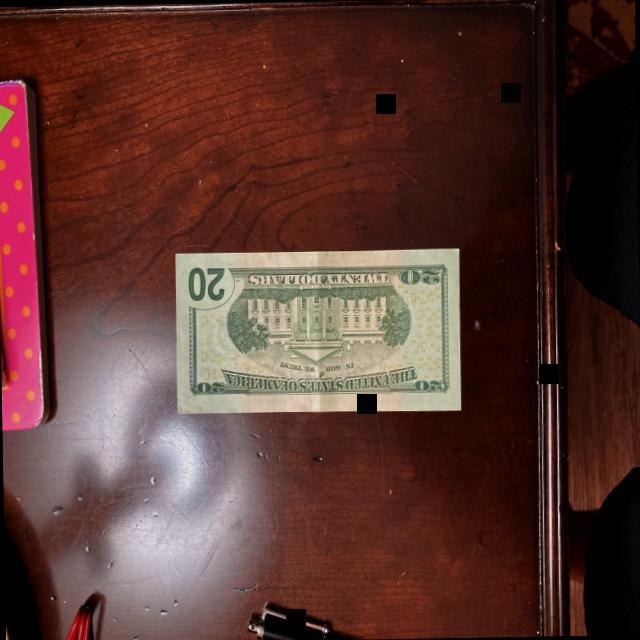twenty: (174, 245, 462, 414)
